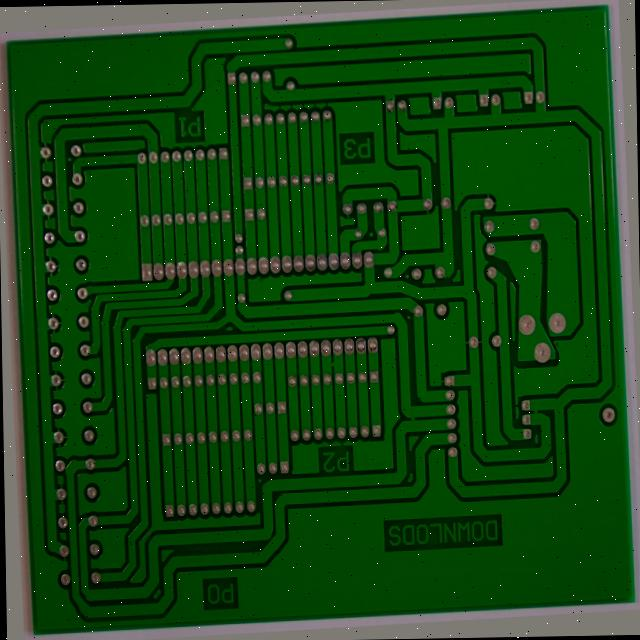short: (525, 410, 547, 439), (400, 411, 420, 437), (322, 356, 340, 379)
